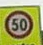limite 50: (4, 9, 32, 38)
